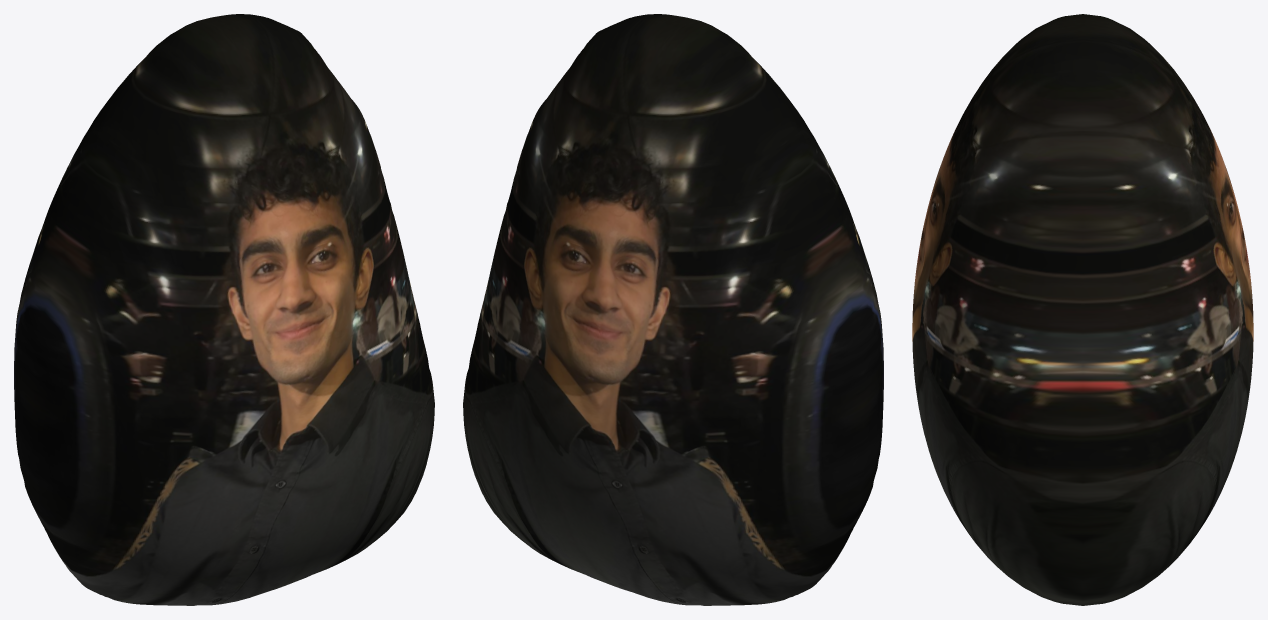
3 renders of one model, left to right at view 1: azimuth 30°, elevation 25°; view 2: azimuth 150°, elevation 25°; view 3: azimuth 270°, elevation 25°, orthographic. The views are drawn at different scales.
Visible parts, largest first — view 1: Mesh; view 2: Mesh; view 3: Mesh.
Part boxes in pixels (x1,y1,x2,y2): Mesh: [14, 14, 434, 605]; Mesh: [463, 14, 883, 605]; Mesh: [912, 14, 1253, 605].
Bounding box in the file's own units: 4.24 × 5.93 × 3.35.
Materials: 1 (1 with a texture image).
